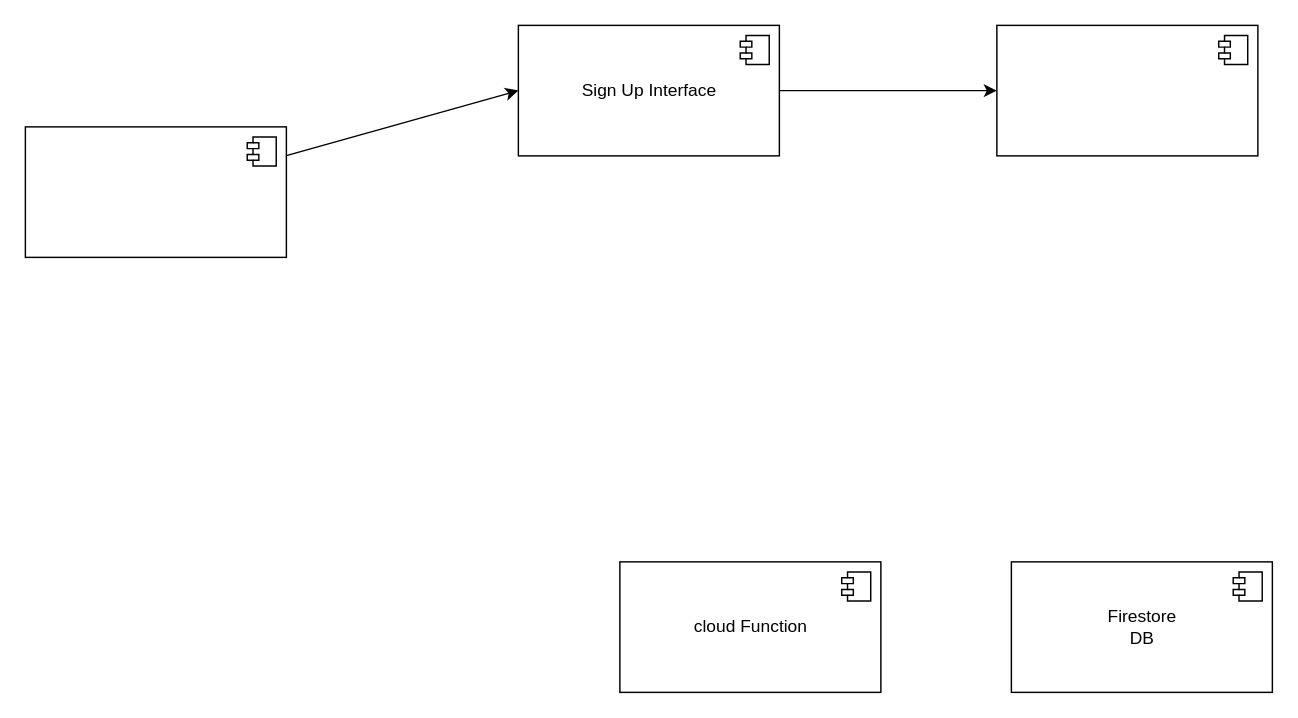
The diagram is 1298 pixels wide and 718 high, and some of its shapes have lost their labels. Here are the shapes that lost their labels. From the top down, the centre of each, then its label:
At point 1126,90: "FireBase Auth".
At point 155,191: "Front End User Interface Desktop Browser".
